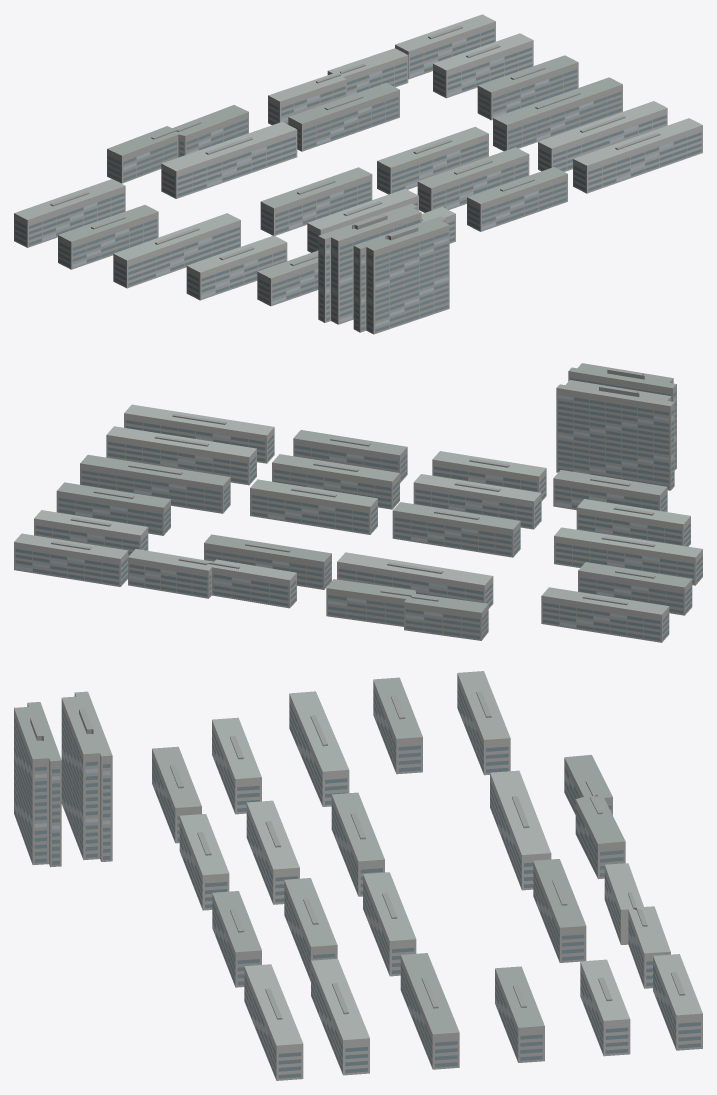
Rendered from apt-a13594702.glb.
3 views of the same model, one above another, from view 1: azimuth 30°, elevation 25°; view 2: azimuth 150°, elevation 25°; view 3: azimuth 270°, elevation 25° (orthographic). The views are drawn at different scales.
Visible parts, largest first — view 1: apt-a13594702; view 2: apt-a13594702; view 3: apt-a13594702.
Part boxes in pixels (x1=…): apt-a13594702: x1=14, y1=14, x2=702, y2=334; apt-a13594702: x1=14, y1=363, x2=702, y2=642; apt-a13594702: x1=14, y1=671, x2=702, y2=1080.
Bounding box in the file's own units: 347 × 47.81 × 270.
